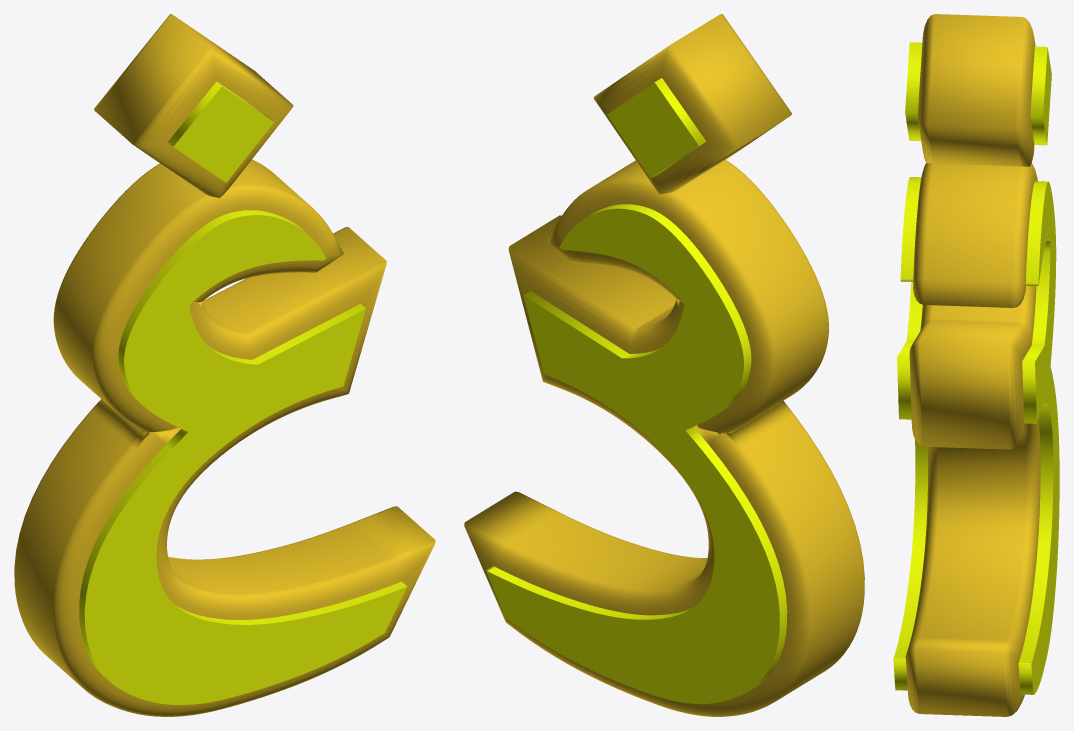
3 renders of one model, left to right at view 1: azimuth 30°, elevation 25°; view 2: azimuth 150°, elevation 25°; view 3: azimuth 270°, elevation 25°, orthographic.
Parts seen in each view (by area): view 1: text 2, Text; view 2: text 2, Text; view 3: text 2, Text.
Part boxes in pixels (x1,y1,x2,y2): text 2: (14, 14, 435, 716); Text: (79, 81, 407, 704); text 2: (464, 14, 864, 716); Text: (485, 78, 787, 703); text 2: (905, 14, 1040, 716); Text: (893, 42, 1059, 694).
Size of the model in its own units: 37.3 by 63.62 by 14.61.
